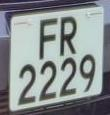2: (16, 57, 40, 110), (38, 57, 60, 104), (59, 56, 80, 99)
9: (79, 52, 97, 97)
F: (35, 15, 59, 63)
R: (58, 12, 81, 61)
